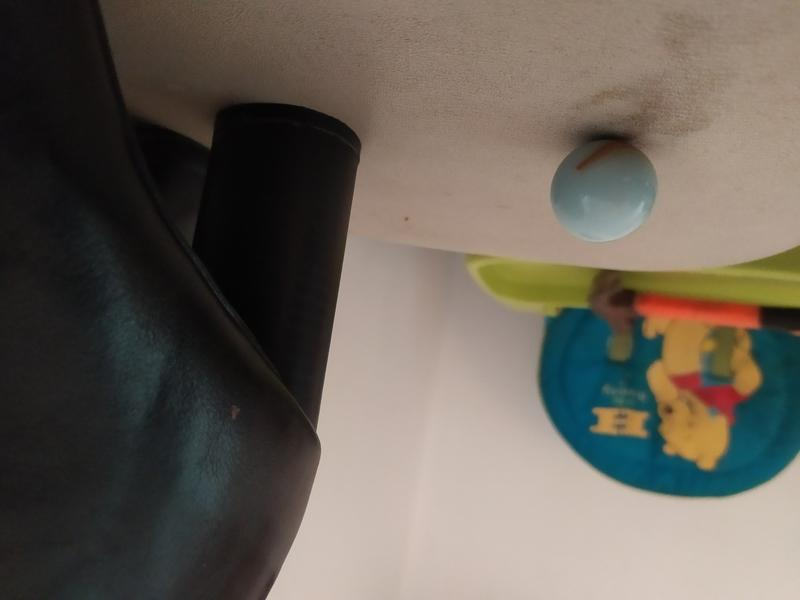Warning: (547, 137, 662, 246)
